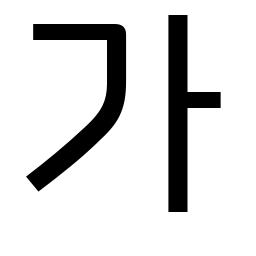Gaji: (153, 74, 206, 129)
